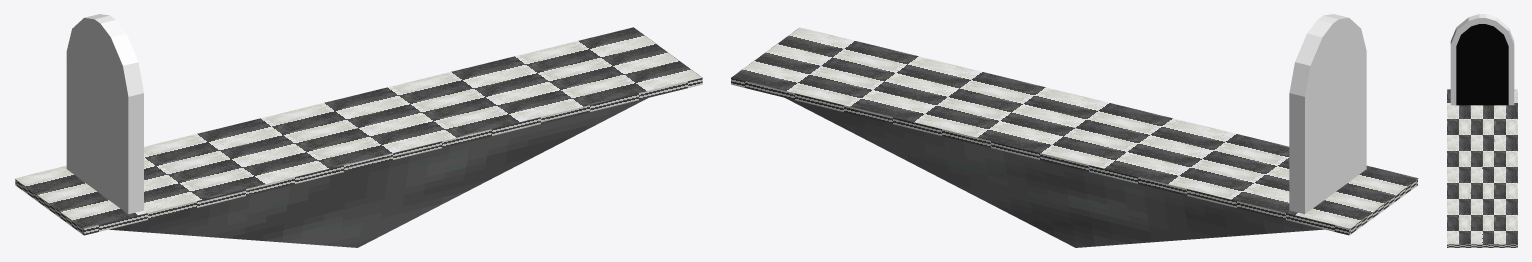
File: runway.gltf
3 views of the same model, side by side, from view 1: azimuth 30°, elevation 25°; view 2: azimuth 150°, elevation 25°; view 3: azimuth 270°, elevation 25° (orthographic). The views are drawn at different scales.
Parts seen in each view (by area): view 1: LLL.007, Plane.004; view 2: LLL.007, Plane.004; view 3: LLL.007, Plane.004.
Boxes of the visible parts, x1,y1,x2,y2 form: LLL.007: [15, 27, 702, 247]; Plane.004: [66, 14, 143, 214]; LLL.007: [731, 27, 1418, 247]; Plane.004: [1289, 14, 1366, 214]; LLL.007: [1447, 89, 1517, 247]; Plane.004: [1450, 14, 1514, 105].
Bounding box in the file's own units: 48.68 × 21.79 × 9.37.
5 materials, 2 textured.
